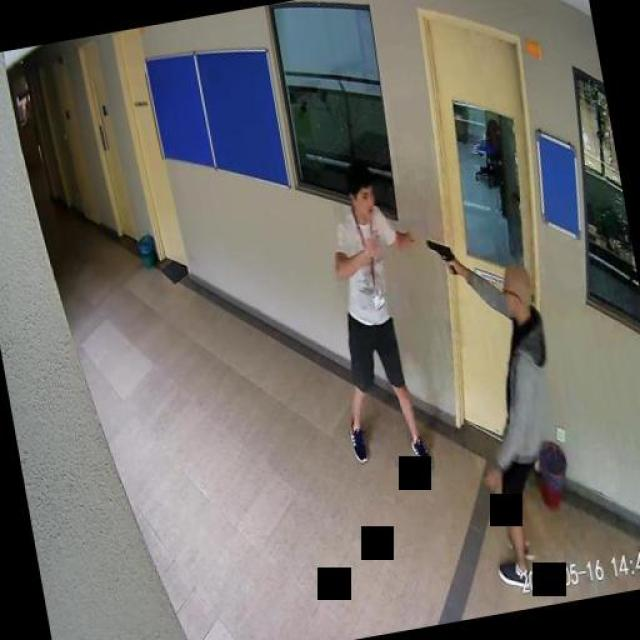gun: (423, 234, 458, 276)
